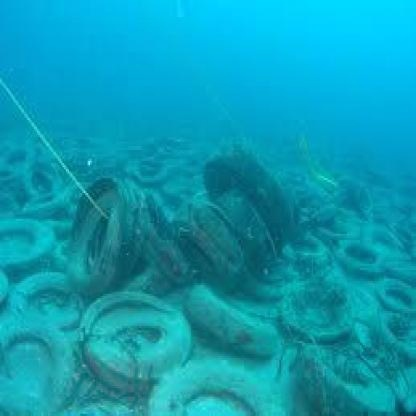tire: (82, 285, 212, 403), (67, 172, 172, 300), (158, 199, 260, 291), (278, 270, 358, 343), (309, 223, 398, 281), (372, 265, 416, 319)
